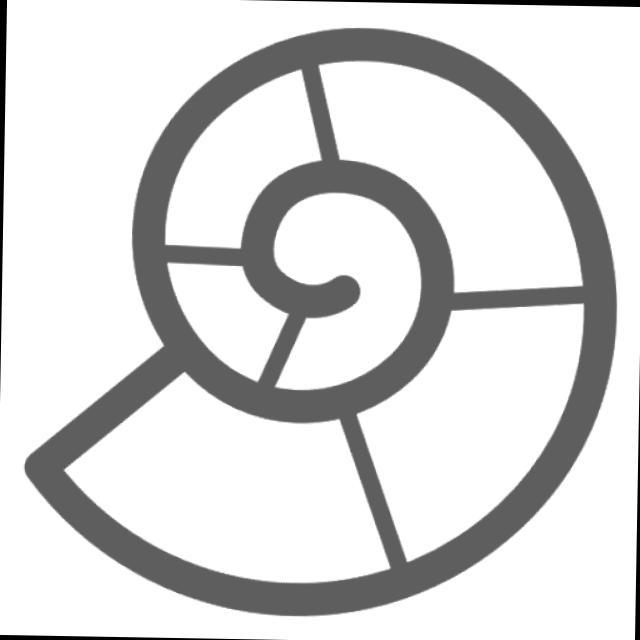fossil: (10, 10, 631, 631)
